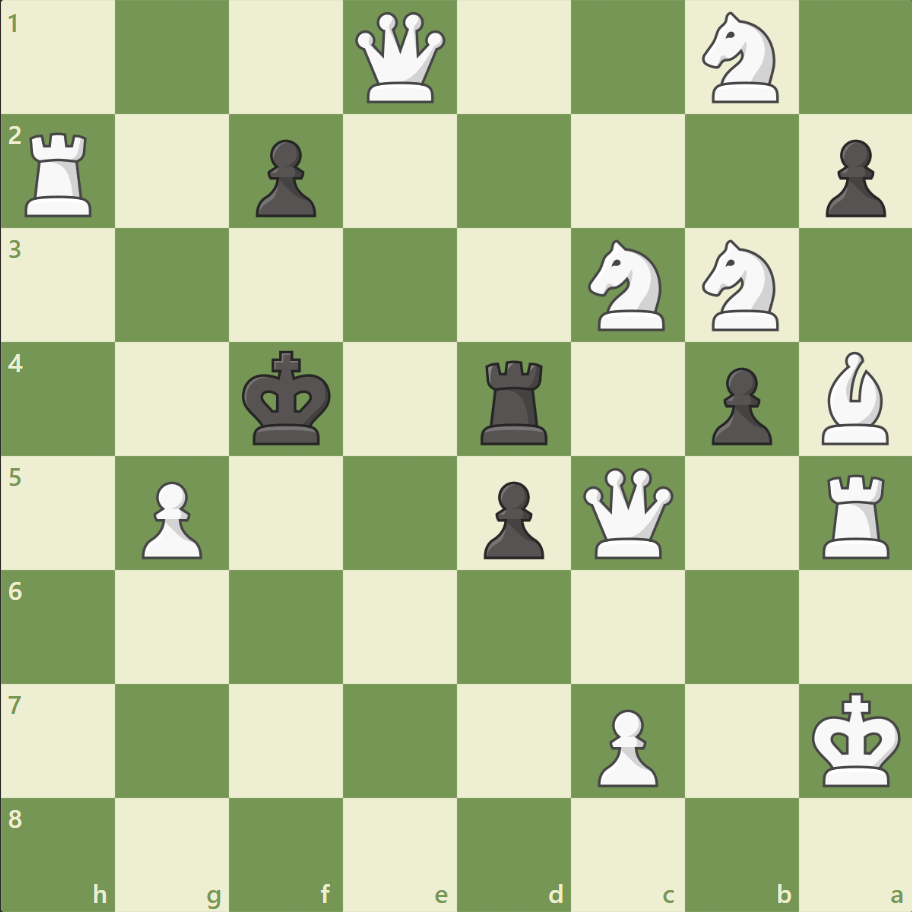B: (812, 347, 896, 449)
K: (806, 685, 906, 793)
N: (692, 234, 789, 337), (579, 234, 676, 337), (692, 7, 789, 110)
P: (133, 473, 208, 564), (588, 700, 662, 791)
Q: (578, 463, 677, 562), (351, 9, 450, 108)
R: (814, 466, 897, 563), (19, 125, 102, 222)
k: (238, 344, 338, 452)
p: (474, 473, 549, 564), (701, 359, 776, 450), (247, 132, 322, 223), (815, 132, 889, 223)
r: (473, 352, 556, 449)
